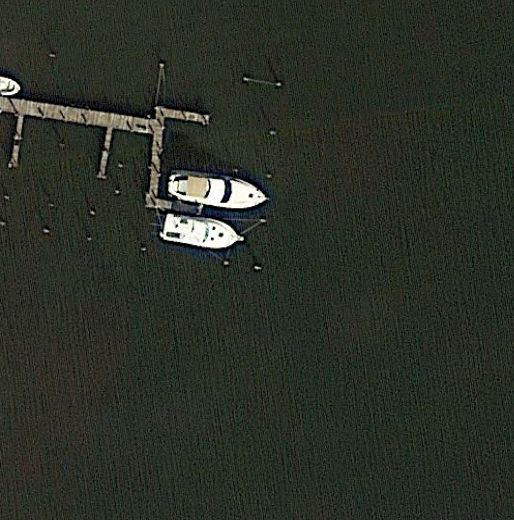boat: (166, 168, 269, 211), (158, 212, 245, 251)
